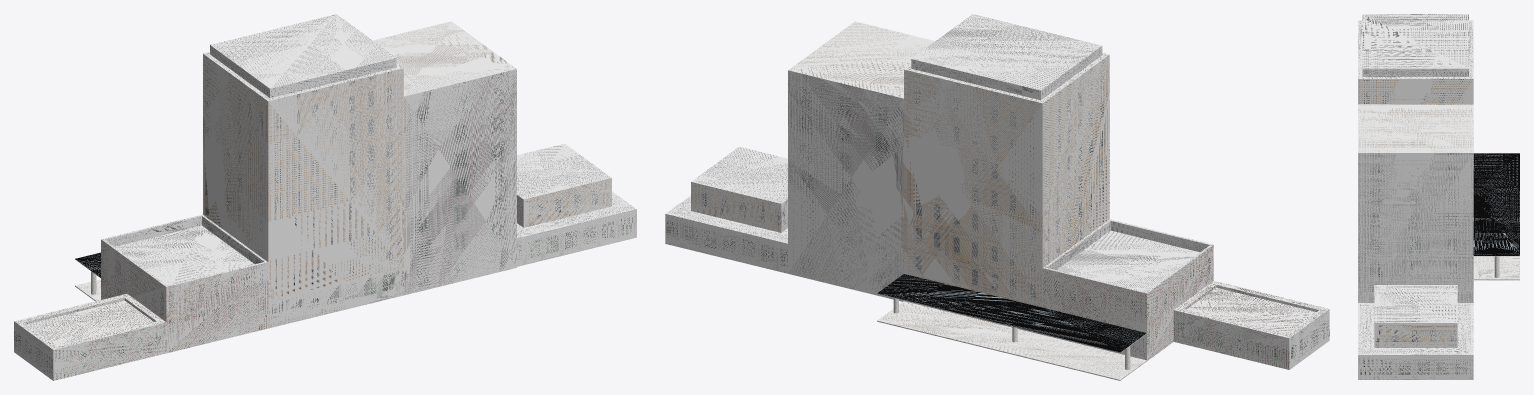
File: Building_6.fbx
3 renders of one model, left to right at view 1: azimuth 30°, elevation 25°; view 2: azimuth 150°, elevation 25°; view 3: azimuth 270°, elevation 25°, orthographic. The views are drawn at different scales.
Parts seen in each view (by area): view 1: Group1, Group2, Group3, Model, Group4; view 2: Group1, Group2, Model, Group3, Group4; view 3: Group2, Model, Group1.
Boxes of the visible parts, x1,y1,x2,y2 form: Group1: [203, 14, 403, 328]; Group2: [373, 21, 516, 295]; Group3: [101, 214, 268, 353]; Model: [54, 143, 636, 380]; Group4: [14, 294, 166, 380]; Group1: [904, 14, 1109, 334]; Group2: [788, 21, 935, 301]; Model: [665, 146, 1146, 380]; Group3: [1042, 219, 1213, 360]; Group4: [1173, 281, 1329, 369]; Group2: [1358, 104, 1473, 302]; Model: [1358, 153, 1519, 379]; Group1: [1358, 14, 1473, 104].
Size of the model in its own units: 3096 by 1200 by 840.
